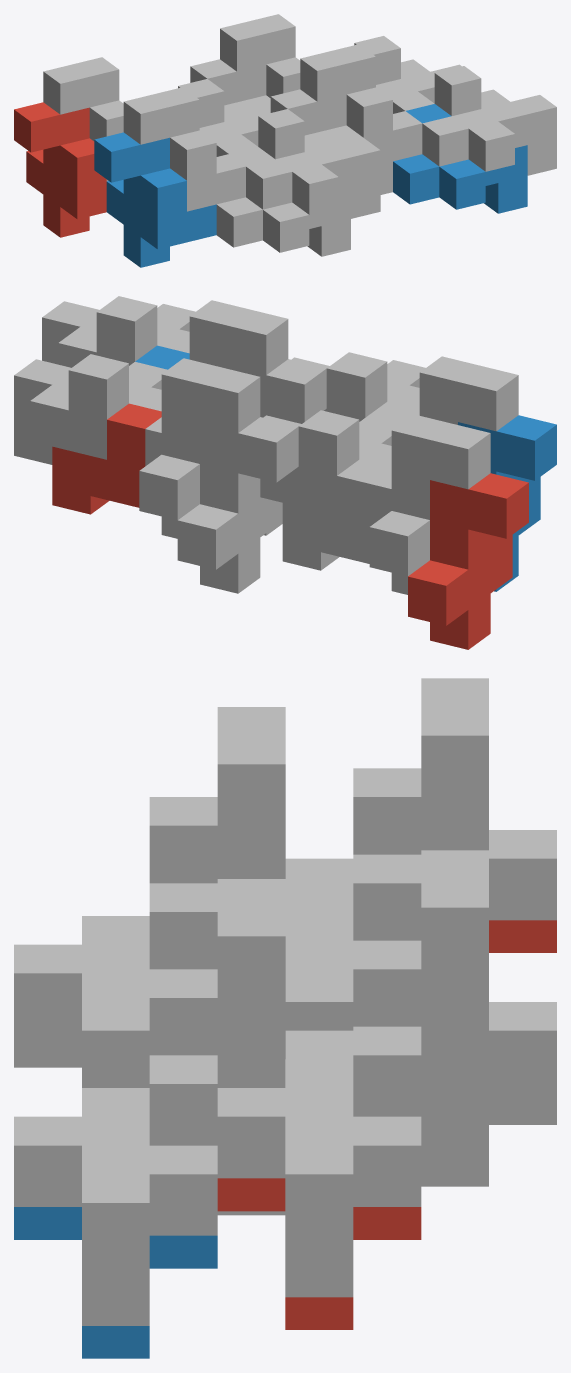
Rendered from tiling.obj.
3 views of the same model, one above another, from view 1: azimuth 30°, elevation 25°; view 2: azimuth 150°, elevation 25°; view 3: azimuth 270°, elevation 25° (orthographic). The views are drawn at different scales.
Visible parts, largest first — view 1: copy_2_domain_8, copy_2_domain_4, copy_1_domain_2, copy_1_domain_1, copy_1_domain_4, copy_1_domain_8, copy_2_domain_6, copy_2_domain_2, copy_1_domain_3, copy_1_domain_7, copy_2_domain_3, copy_2_domain_7 (+2 smaller); view 2: copy_1_domain_1, copy_1_domain_5, copy_1_domain_7, copy_1_domain_3, copy_2_domain_7, copy_2_domain_8, copy_2_domain_3, copy_2_domain_1, copy_2_domain_5, copy_1_domain_4, copy_1_domain_8, copy_2_domain_4 (+4 smaller); view 3: copy_2_domain_7, copy_2_domain_8, copy_1_domain_7, copy_1_domain_3, copy_2_domain_4, copy_1_domain_8, copy_1_domain_4, copy_2_domain_3, copy_2_domain_5, copy_2_domain_6, copy_1_domain_5, copy_1_domain_1 (+1 smaller).
Boxes of the visible parts, bbox=[...] form: copy_2_domain_8: bbox=[422, 66, 556, 175]; copy_2_domain_4: bbox=[246, 109, 380, 218]; copy_1_domain_2: bbox=[94, 132, 216, 267]; copy_1_domain_1: bbox=[14, 102, 106, 237]; copy_1_domain_4: bbox=[123, 87, 245, 211]; copy_1_domain_8: bbox=[300, 44, 422, 164]; copy_2_domain_6: bbox=[393, 104, 527, 213]; copy_2_domain_2: bbox=[216, 147, 350, 256]; copy_1_domain_3: bbox=[43, 57, 123, 181]; copy_1_domain_7: bbox=[220, 14, 300, 97]; copy_2_domain_3: bbox=[178, 79, 270, 156]; copy_2_domain_7: bbox=[354, 36, 461, 113]; copy_1_domain_1: bbox=[408, 473, 528, 649]; copy_1_domain_5: bbox=[177, 417, 298, 593]; copy_1_domain_7: bbox=[139, 358, 260, 538]; copy_1_domain_3: bbox=[369, 414, 490, 594]; copy_2_domain_7: bbox=[14, 354, 167, 464]; copy_2_domain_8: bbox=[42, 296, 195, 367]; copy_2_domain_3: bbox=[260, 410, 397, 515]; copy_2_domain_1: bbox=[282, 459, 391, 570]; copy_2_domain_5: bbox=[52, 403, 161, 514]; copy_1_domain_4: bbox=[419, 356, 518, 431]; copy_1_domain_8: bbox=[189, 300, 288, 374]; copy_2_domain_4: bbox=[291, 352, 425, 421]; copy_2_domain_7: bbox=[217, 1026, 421, 1297]; copy_2_domain_8: bbox=[14, 1055, 217, 1325]; copy_1_domain_7: bbox=[353, 850, 556, 1153]; copy_1_domain_3: bbox=[353, 678, 556, 920]; copy_2_domain_4: bbox=[14, 883, 217, 1087]; copy_1_domain_8: bbox=[149, 879, 353, 1087]; copy_1_domain_4: bbox=[149, 707, 353, 887]; copy_2_domain_3: bbox=[285, 854, 421, 1030]; copy_2_domain_5: bbox=[217, 1178, 421, 1329]; copy_2_domain_6: bbox=[14, 1207, 217, 1358]; copy_1_domain_5: bbox=[421, 1092, 556, 1186]; copy_1_domain_1: bbox=[489, 920, 556, 952].
Size of the model in its own units: 15 by 5 by 8.
